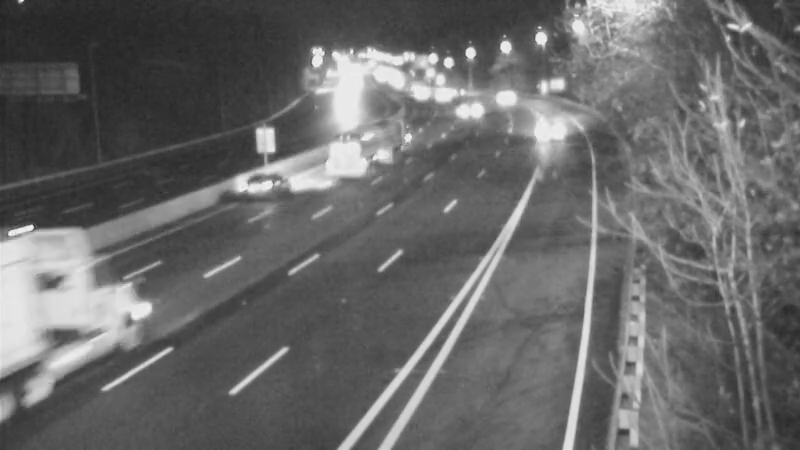vehicle: (305, 119, 385, 199), (226, 141, 306, 221), (478, 74, 528, 124), (417, 73, 467, 123), (444, 86, 494, 136), (526, 101, 576, 151)
